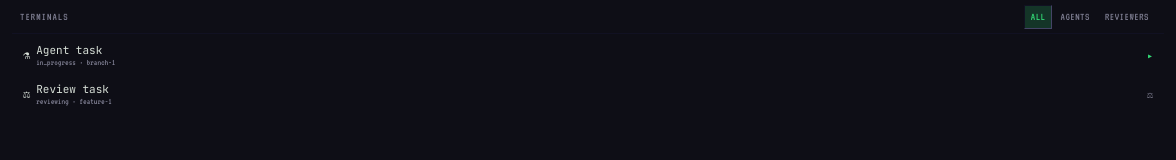
Scenario: AgentTerminalList › mixed agents and reviewers › shows only agents when filter is AGENTS
Click the tab "AGENTS": (1075, 17) x1=1054 y1=5 x2=1097 y2=29
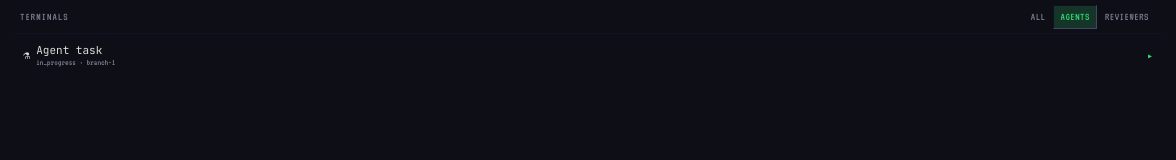
Expected: the text "Agent task" is shown, x1=36 y1=43 x2=102 y2=57
Expected: the button "Review task" is gone
